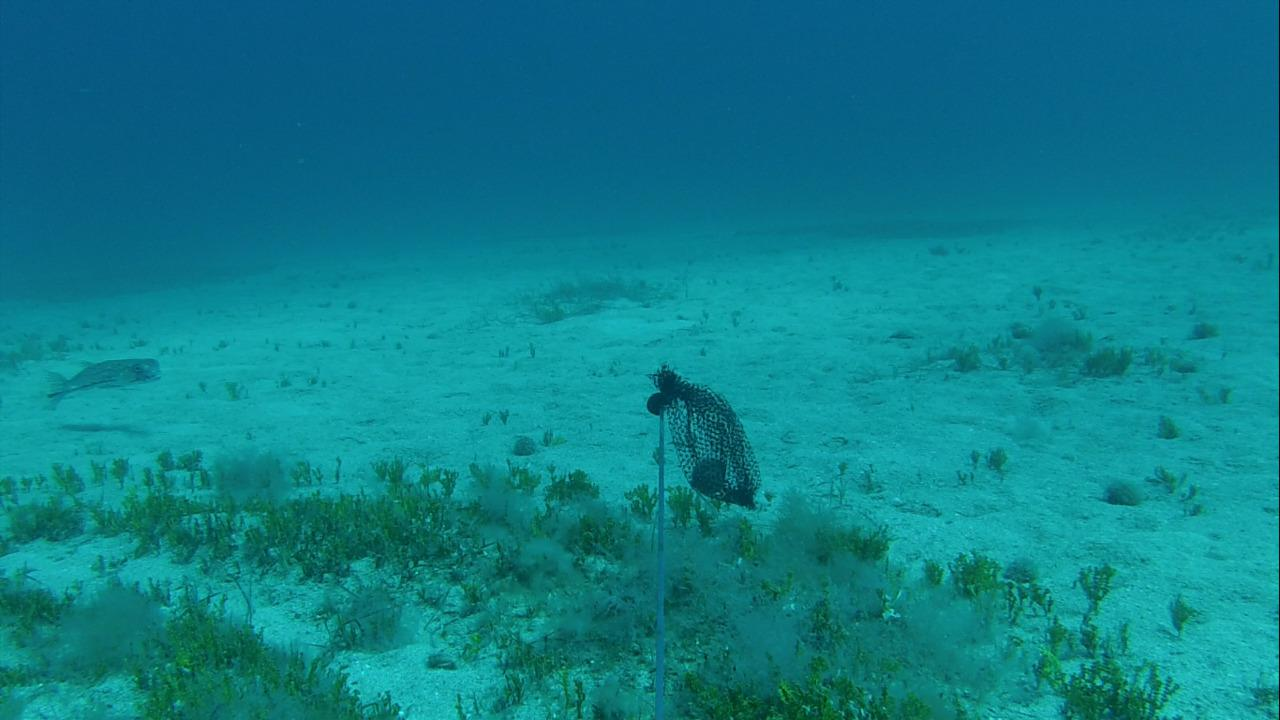dactylopterus: (40, 351, 169, 411)
